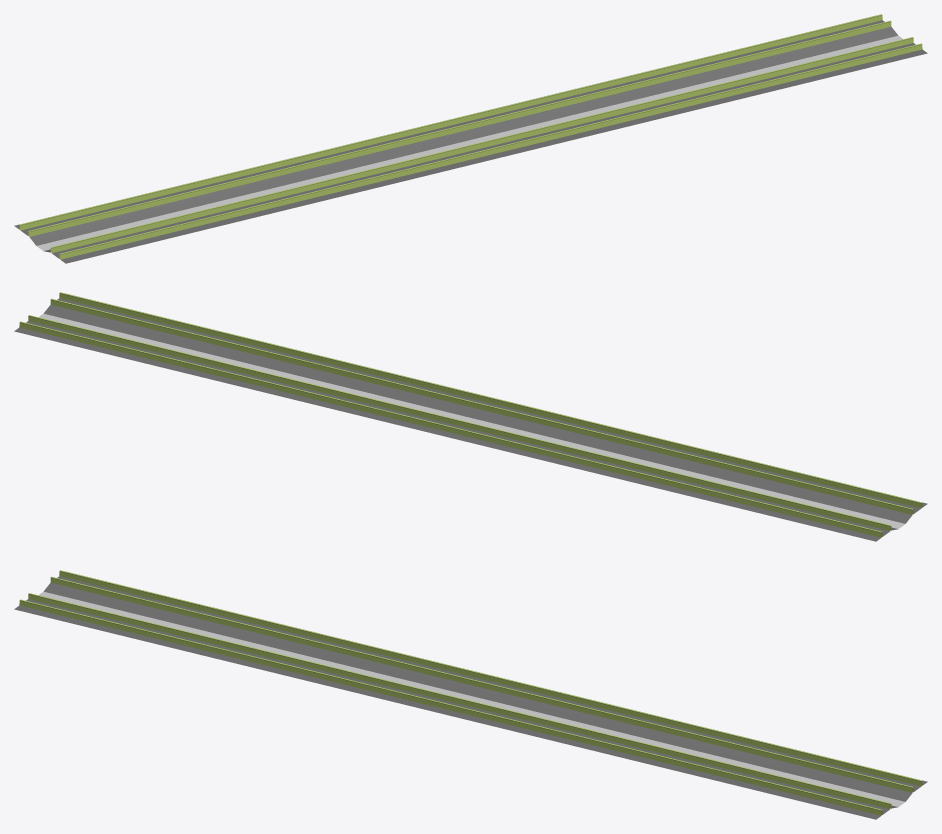
File: SM_Tracks.fbx
3 renders of one model, top to bottom at view 1: azimuth 30°, elevation 25°; view 2: azimuth 150°, elevation 25°; view 3: azimuth 330°, elevation 25°, orthographic.
Parts seen in each view (by area): view 1: SM_Tracks; view 2: SM_Tracks; view 3: SM_Tracks.
Part boxes in pixels (x1,y1,x2,y2): SM_Tracks: (14, 14, 927, 263); SM_Tracks: (14, 292, 927, 541); SM_Tracks: (14, 570, 927, 819).
Size of the model in its own units: 9600 by 96.38 by 1000.
